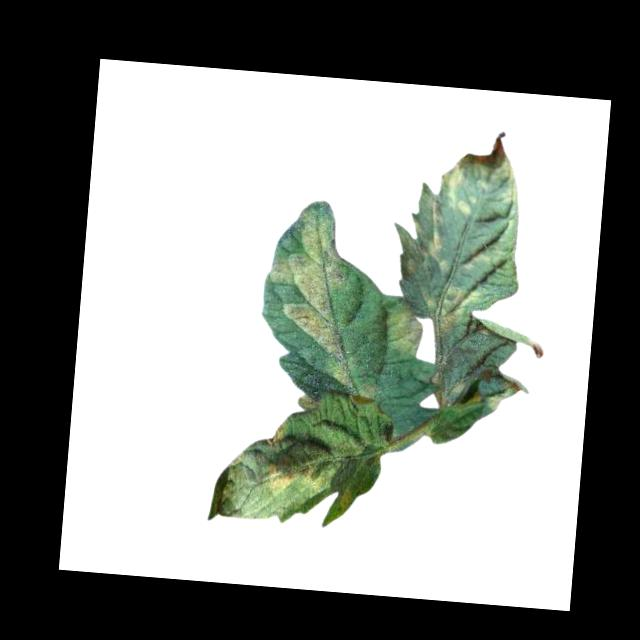Leaf_Mold: (260, 206, 368, 390), (445, 158, 523, 221), (404, 198, 444, 278), (265, 454, 336, 498), (434, 281, 482, 339), (384, 301, 429, 356), (264, 418, 290, 448), (351, 381, 380, 406), (339, 484, 355, 513)
